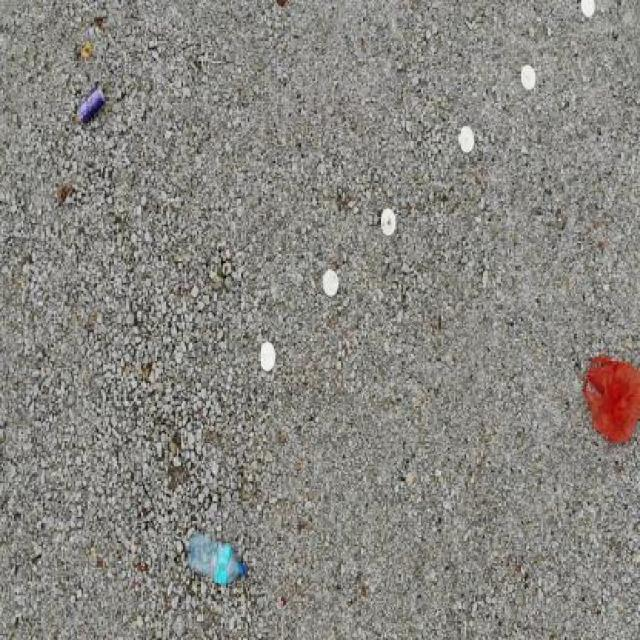Garbage: (582, 353, 640, 442), (188, 532, 246, 583), (76, 86, 106, 124)
